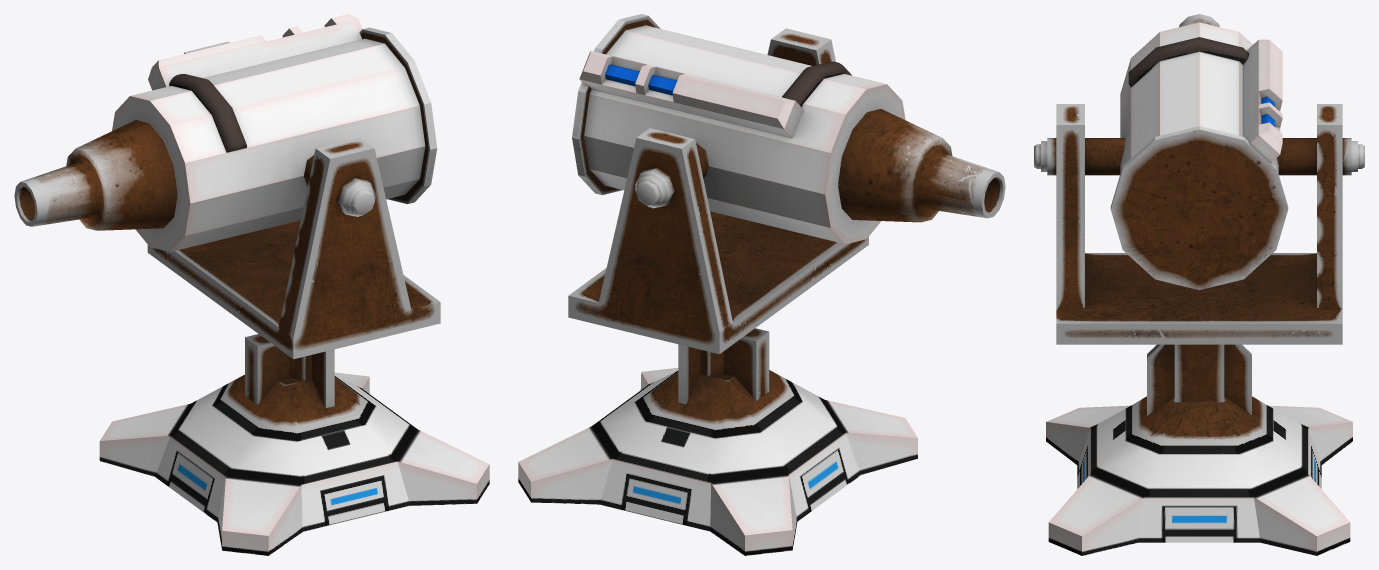
File: turret.obj
3 renders of one model, left to right at view 1: azimuth 30°, elevation 25°; view 2: azimuth 150°, elevation 25°; view 3: azimuth 270°, elevation 25°, orthographic. The views are drawn at different scales.
Visible parts, largest first — view 1: polySurface24; view 2: polySurface24; view 3: polySurface24.
Part boxes in pixels (<box>): polySurface24: <box>14,14,489,555</box>; polySurface24: <box>518,14,1005,555</box>; polySurface24: <box>1034,14,1364,555</box>.
Size of the model in its own units: 1198 by 1181 by 867.
Materials: 1 (1 with a texture image).
